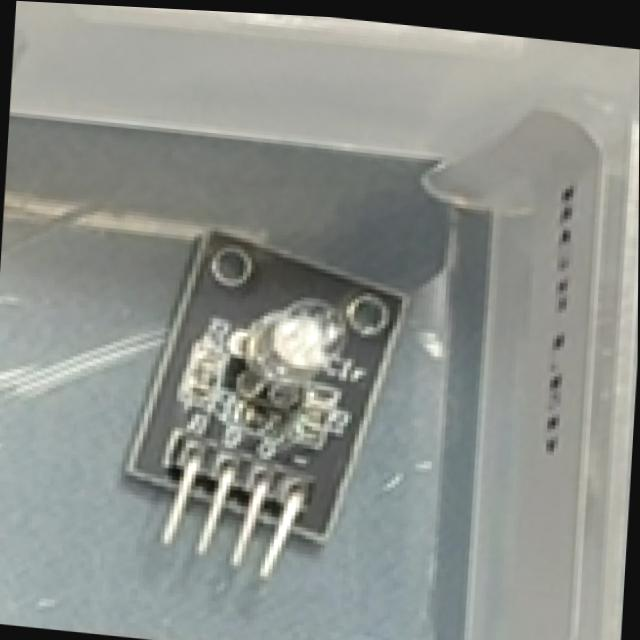RGB LED: (115, 222, 411, 589)
